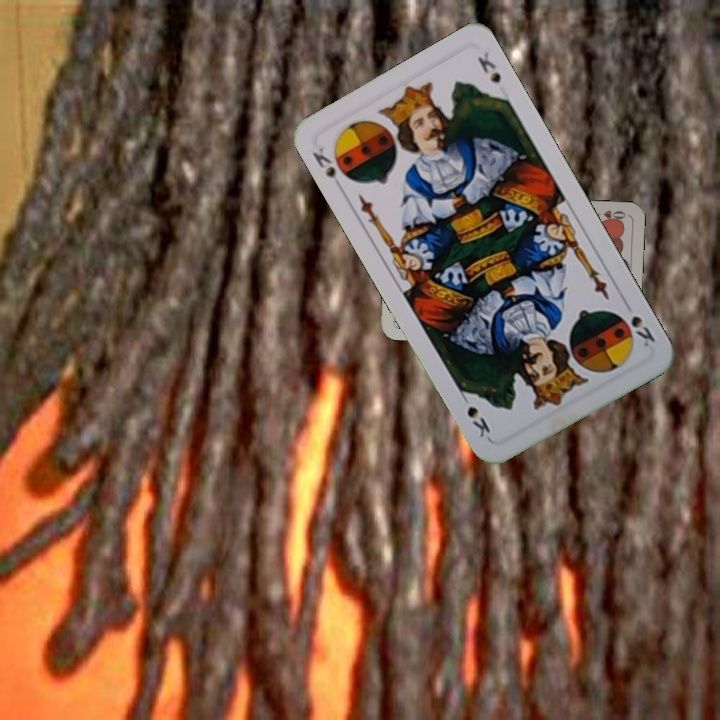HO: (588, 206, 628, 224)
SK: (619, 296, 658, 350), (308, 143, 347, 194)
